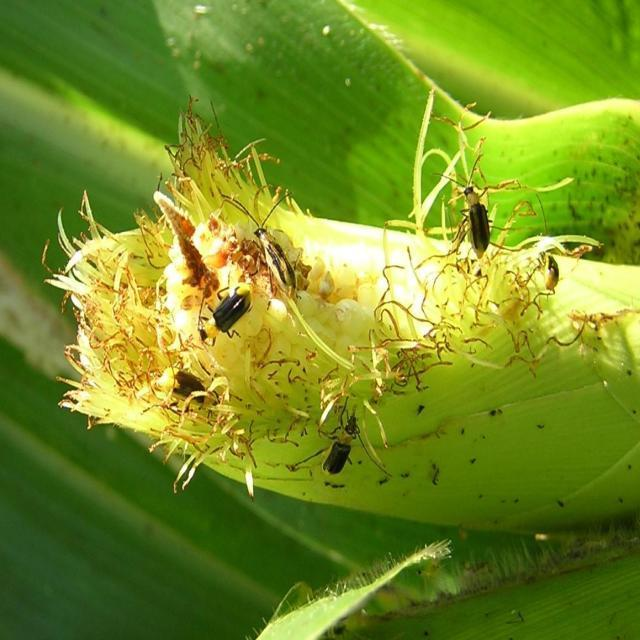trips: (226, 193, 296, 306), (432, 152, 493, 259), (432, 156, 492, 260), (297, 394, 360, 477), (196, 286, 252, 346), (168, 370, 222, 420), (528, 253, 560, 302)
